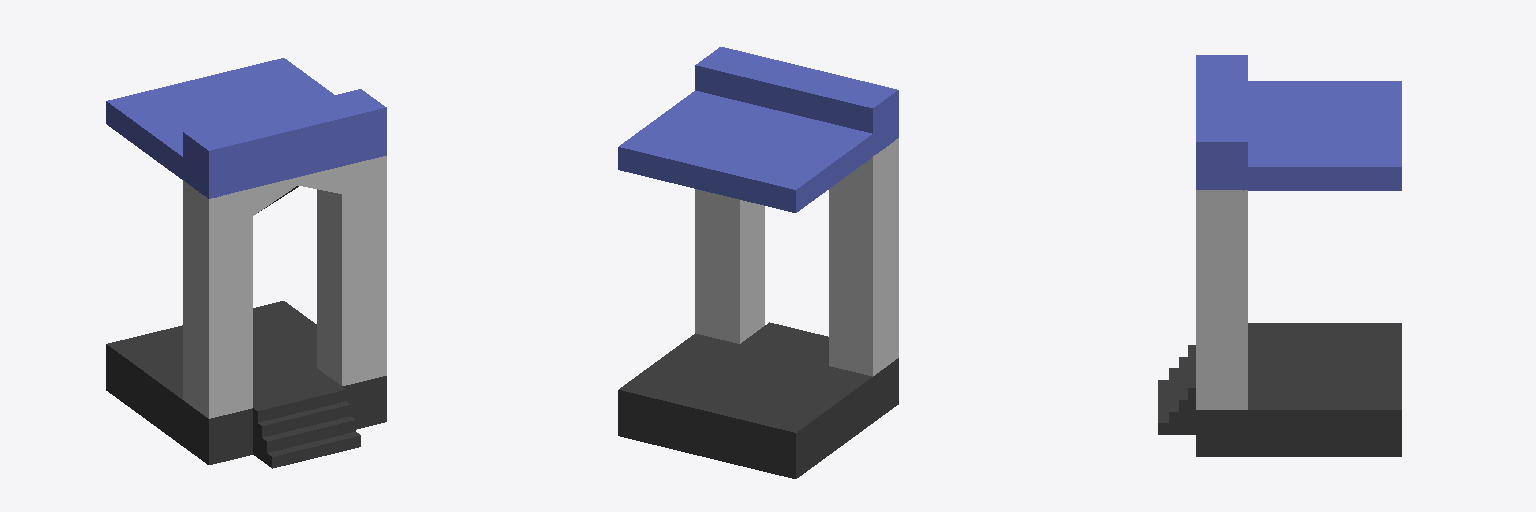
Rendered from DoorFrameWall.obj.
3 views of the same model, side by side, from view 1: azimuth 30°, elevation 25°; view 2: azimuth 150°, elevation 25°; view 3: azimuth 270°, elevation 25° (orthographic).
Parts seen in each view (by area): view 1: Cube.001; view 2: Cube.001; view 3: Cube.001.
Part boxes in pixels (x1,y1,x2,y2): Cube.001: (106,58,386,468); Cube.001: (618,47,898,478); Cube.001: (1158,55,1401,456).
Bounding box in the file's own units: 4 × 6.77 × 4.74.